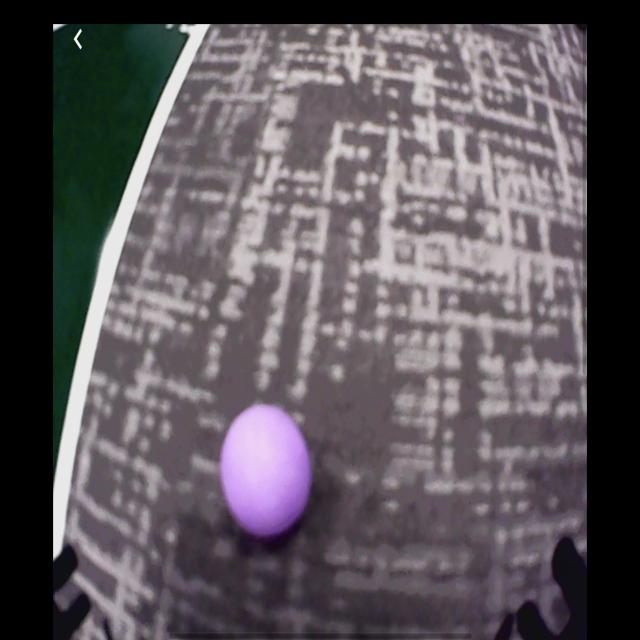ball: (221, 405, 312, 538)
